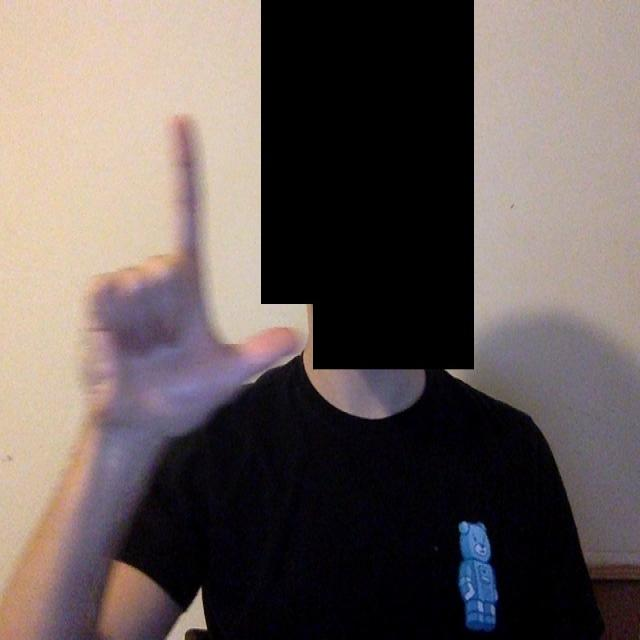L: (57, 80, 304, 434)
